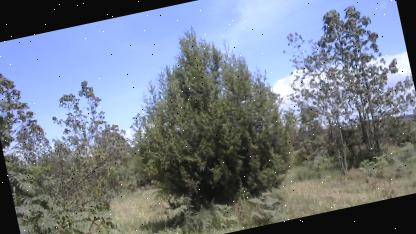tree: (106, 8, 311, 233), (280, 0, 416, 181)
